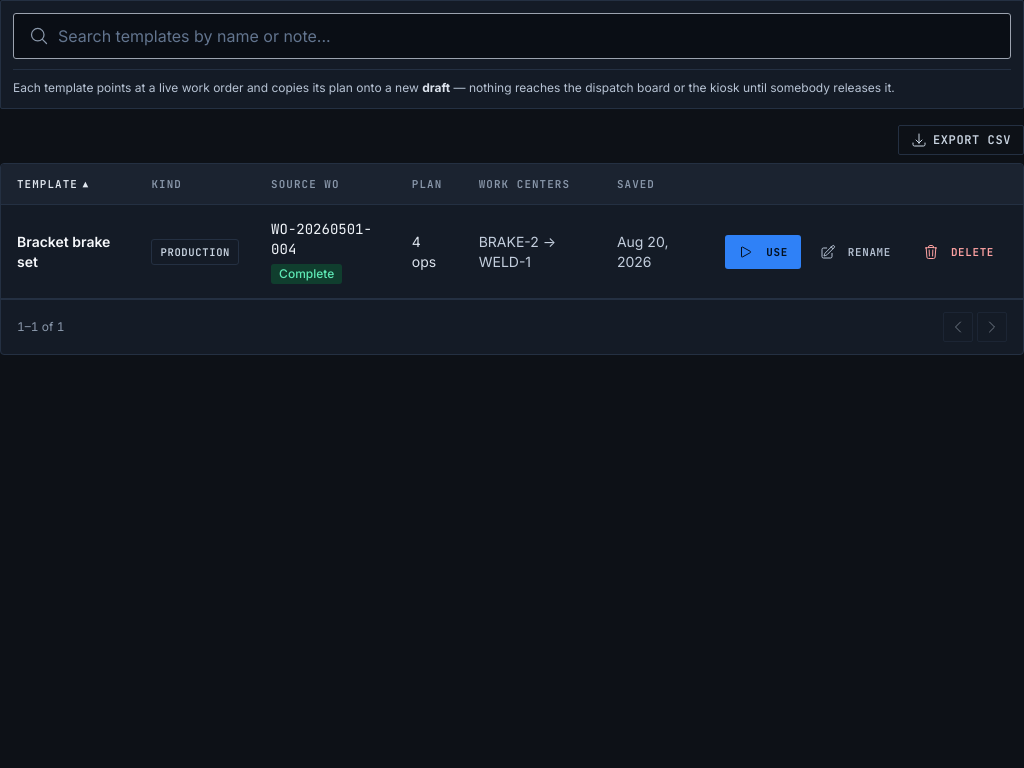
WorkOrderTemplatesPanel: rename and delete are server-gated › keeps the rename dialog OPEN when the server refuses the new name
Check: the text "Bracket brake set" is shown, box x1=17 y1=232 x2=120 y2=272
Click the button with aria-label "Rename template Bracket brake set". click: coordinates (855, 252)
box: x1=807 y1=235 x2=904 y2=269
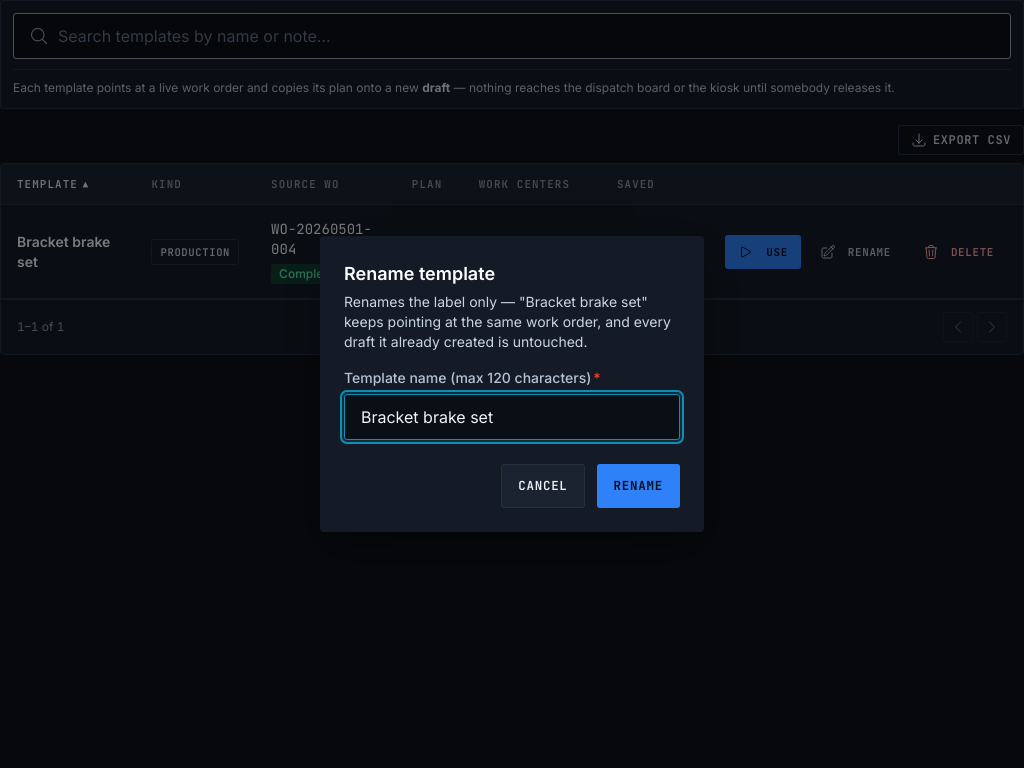
Replace the text in the field labelled "Template name (max 120 characters)*" with "Miratech nest group". click: coordinates (512, 417)
box: x1=344 y1=394 x2=680 y2=440
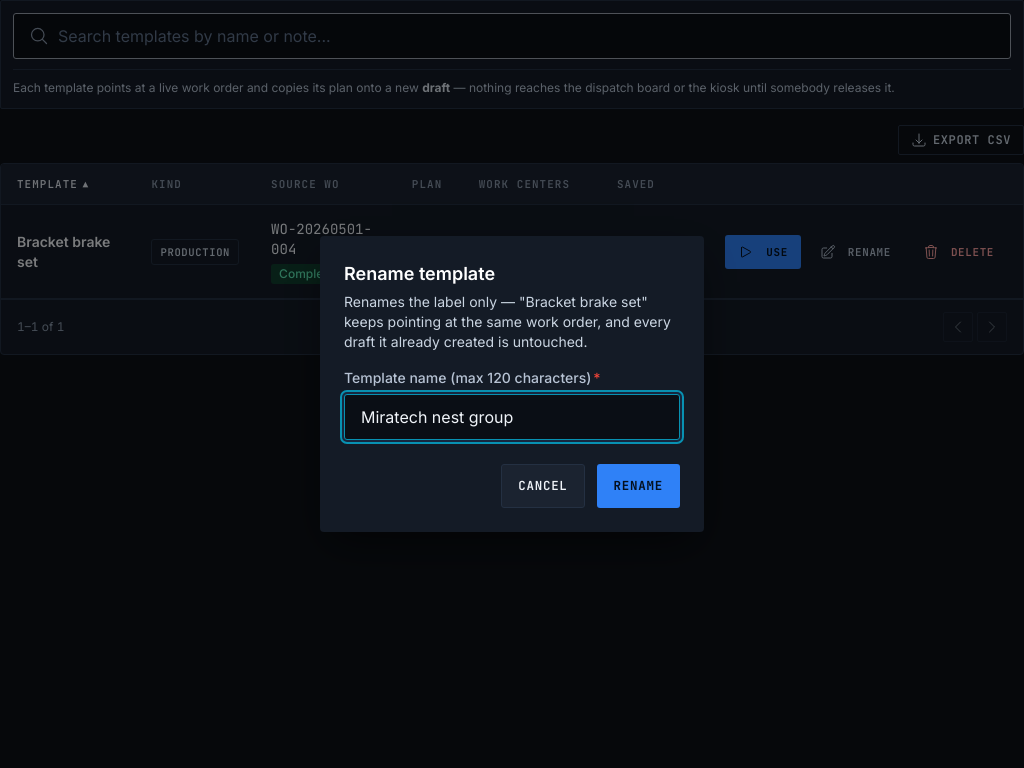
Click the button "Rename". click: coordinates (638, 486)
box: x1=597 y1=464 x2=680 y2=508
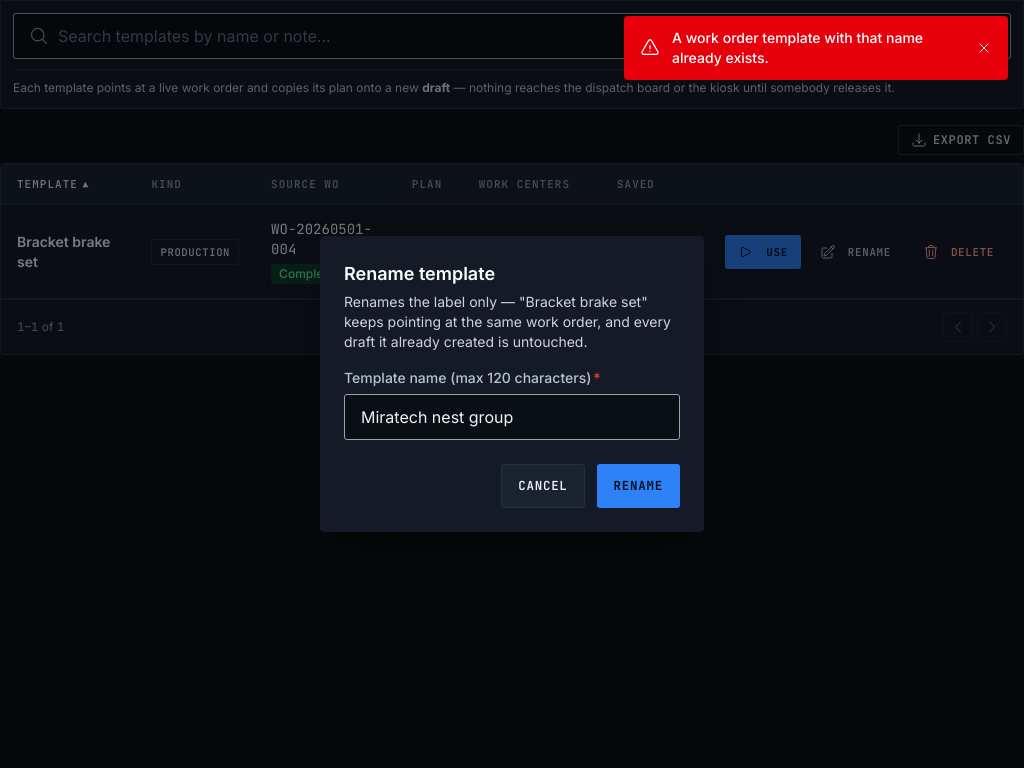
Check: the text "A work order template with that name already exists." is shown, box x1=672 y1=28 x2=964 y2=68
